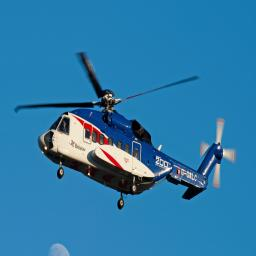helicopter: (15, 52, 237, 211)
